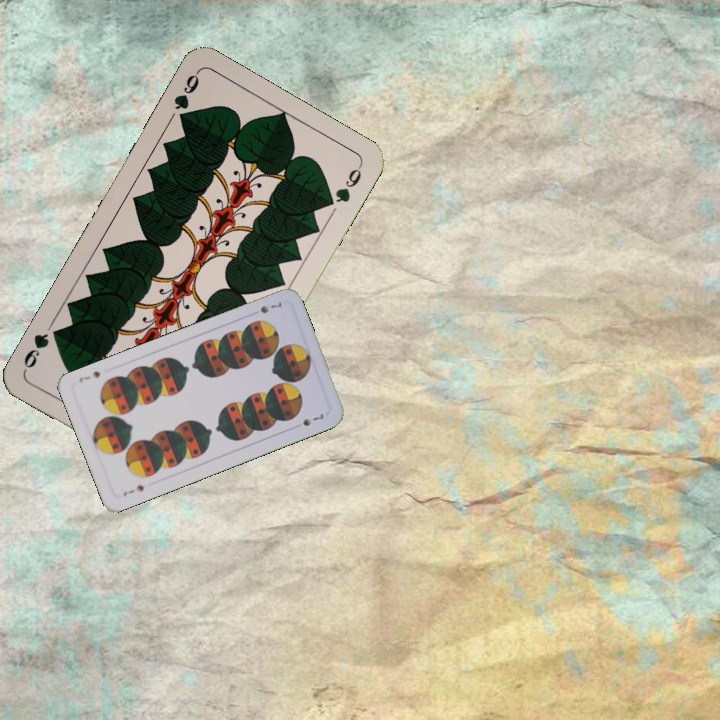G9: (170, 67, 202, 127)
S7: (256, 298, 286, 316), (119, 481, 147, 499)
